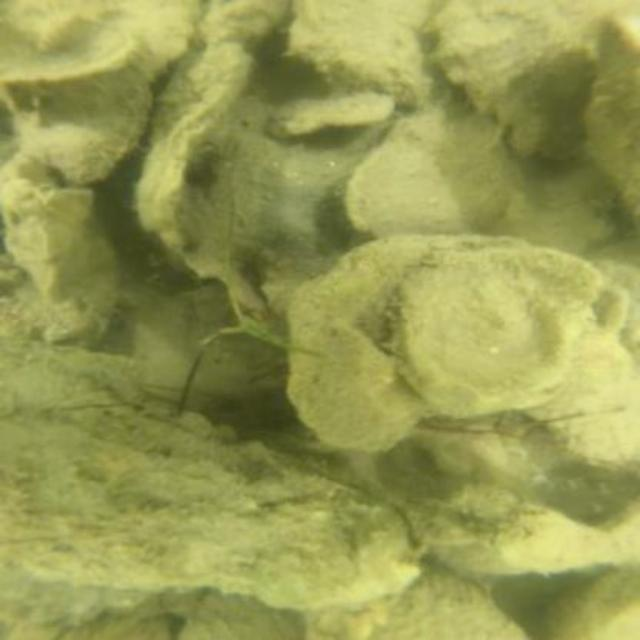Oyster-Closed: (2, 412, 418, 610), (288, 233, 522, 453), (387, 244, 628, 415), (432, 3, 592, 154), (140, 41, 253, 242), (290, 10, 428, 109), (348, 117, 464, 234), (585, 24, 636, 225), (381, 571, 528, 636), (187, 331, 289, 422), (202, 1, 279, 47)
